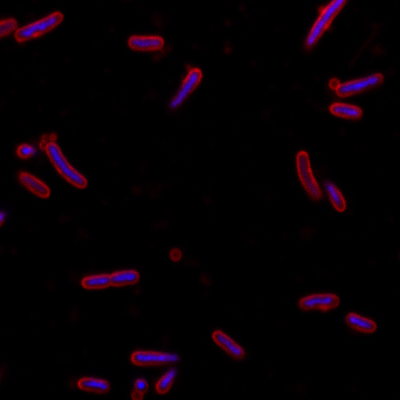Oblique: (166, 64, 205, 113), (294, 149, 322, 203), (15, 171, 52, 199), (129, 349, 184, 366), (323, 177, 348, 214), (152, 366, 178, 396), (129, 376, 147, 400), (15, 142, 38, 160)
Rifampicin: (44, 141, 90, 190), (13, 11, 66, 43), (78, 267, 141, 290), (334, 71, 385, 97), (210, 329, 247, 361), (343, 312, 378, 337), (297, 292, 339, 312), (76, 373, 113, 394), (328, 101, 364, 122), (126, 33, 164, 52)
Vesicle: (326, 74, 342, 90), (168, 246, 183, 263)
